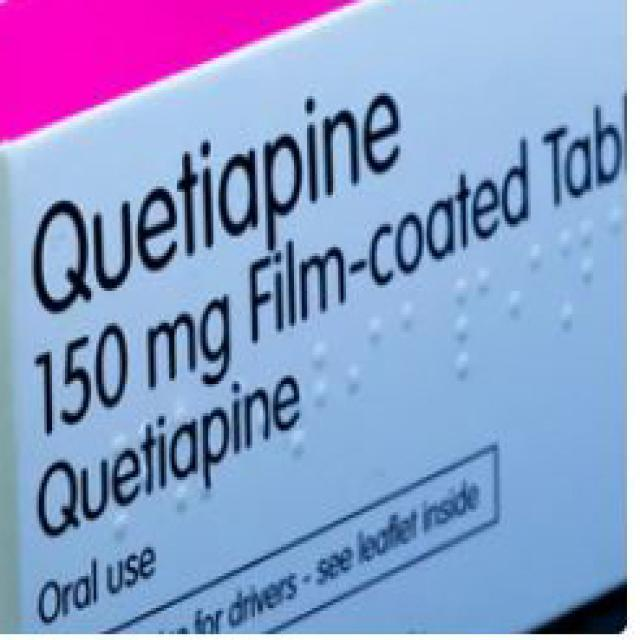drug-name: (29, 67, 410, 335)
